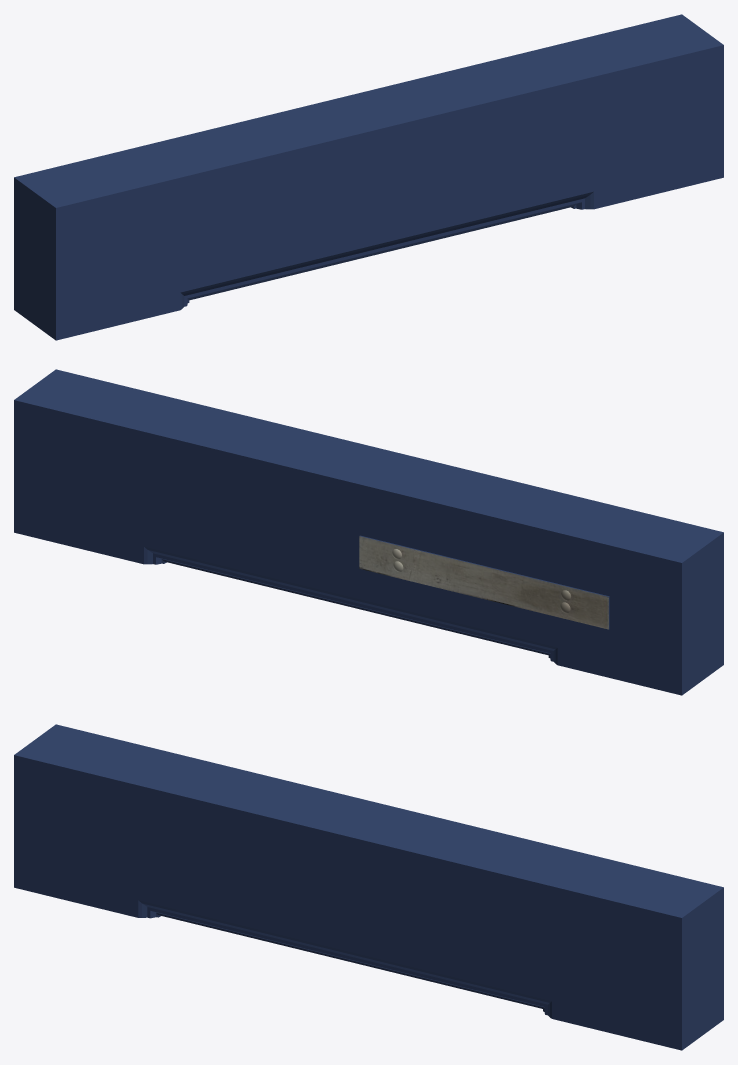
3 renders of one model, top to bottom at view 1: azimuth 30°, elevation 25°; view 2: azimuth 150°, elevation 25°; view 3: azimuth 330°, elevation 25°, orthographic.
Visible parts, largest first — view 1: Blue single marina glazed door top rail; view 2: Blue single marina glazed door top rail; view 3: Blue single marina glazed door top rail.
Boxes of the visible parts, x1,y1,x2,y2 form: Blue single marina glazed door top rail: (14, 14, 723, 340); Blue single marina glazed door top rail: (14, 369, 723, 695); Blue single marina glazed door top rail: (14, 724, 723, 1050).
Bounding box in the file's own units: 0.9092 × 0.1724 × 0.1031.
Materials: 2 (1 with a texture image).
